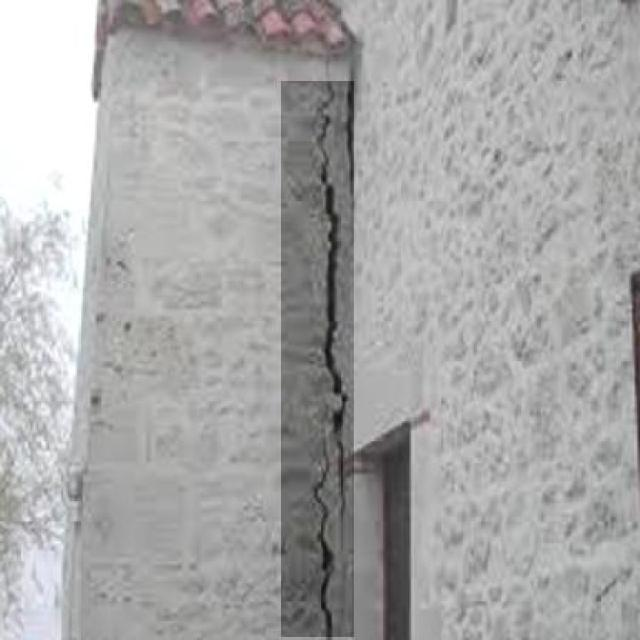Crack: (287, 75, 350, 640)
